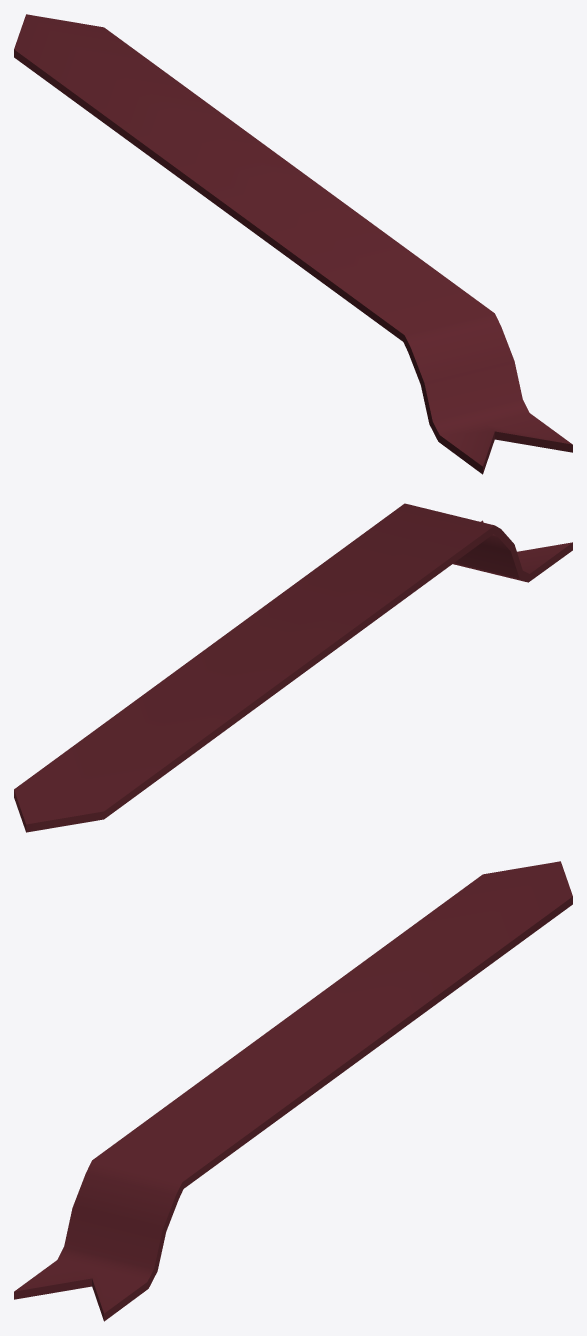
Rendered from Bookmark_01.fbx.
The picture shows the model from 3 angles, top to bottom: view 1: azimuth 30°, elevation 25°; view 2: azimuth 150°, elevation 25°; view 3: azimuth 330°, elevation 25°; orthographic projection.
Parts seen in each view (by area): view 1: Bookmark_01; view 2: Bookmark_01; view 3: Bookmark_01.
Boxes of the visible parts, x1=… form: Bookmark_01: x1=14, y1=14, x2=572, y2=474; Bookmark_01: x1=14, y1=503, x2=572, y2=832; Bookmark_01: x1=14, y1=861, x2=572, y2=1321.
Bounding box in the file's own units: 0.0428 × 0.0373 × 0.4129.
